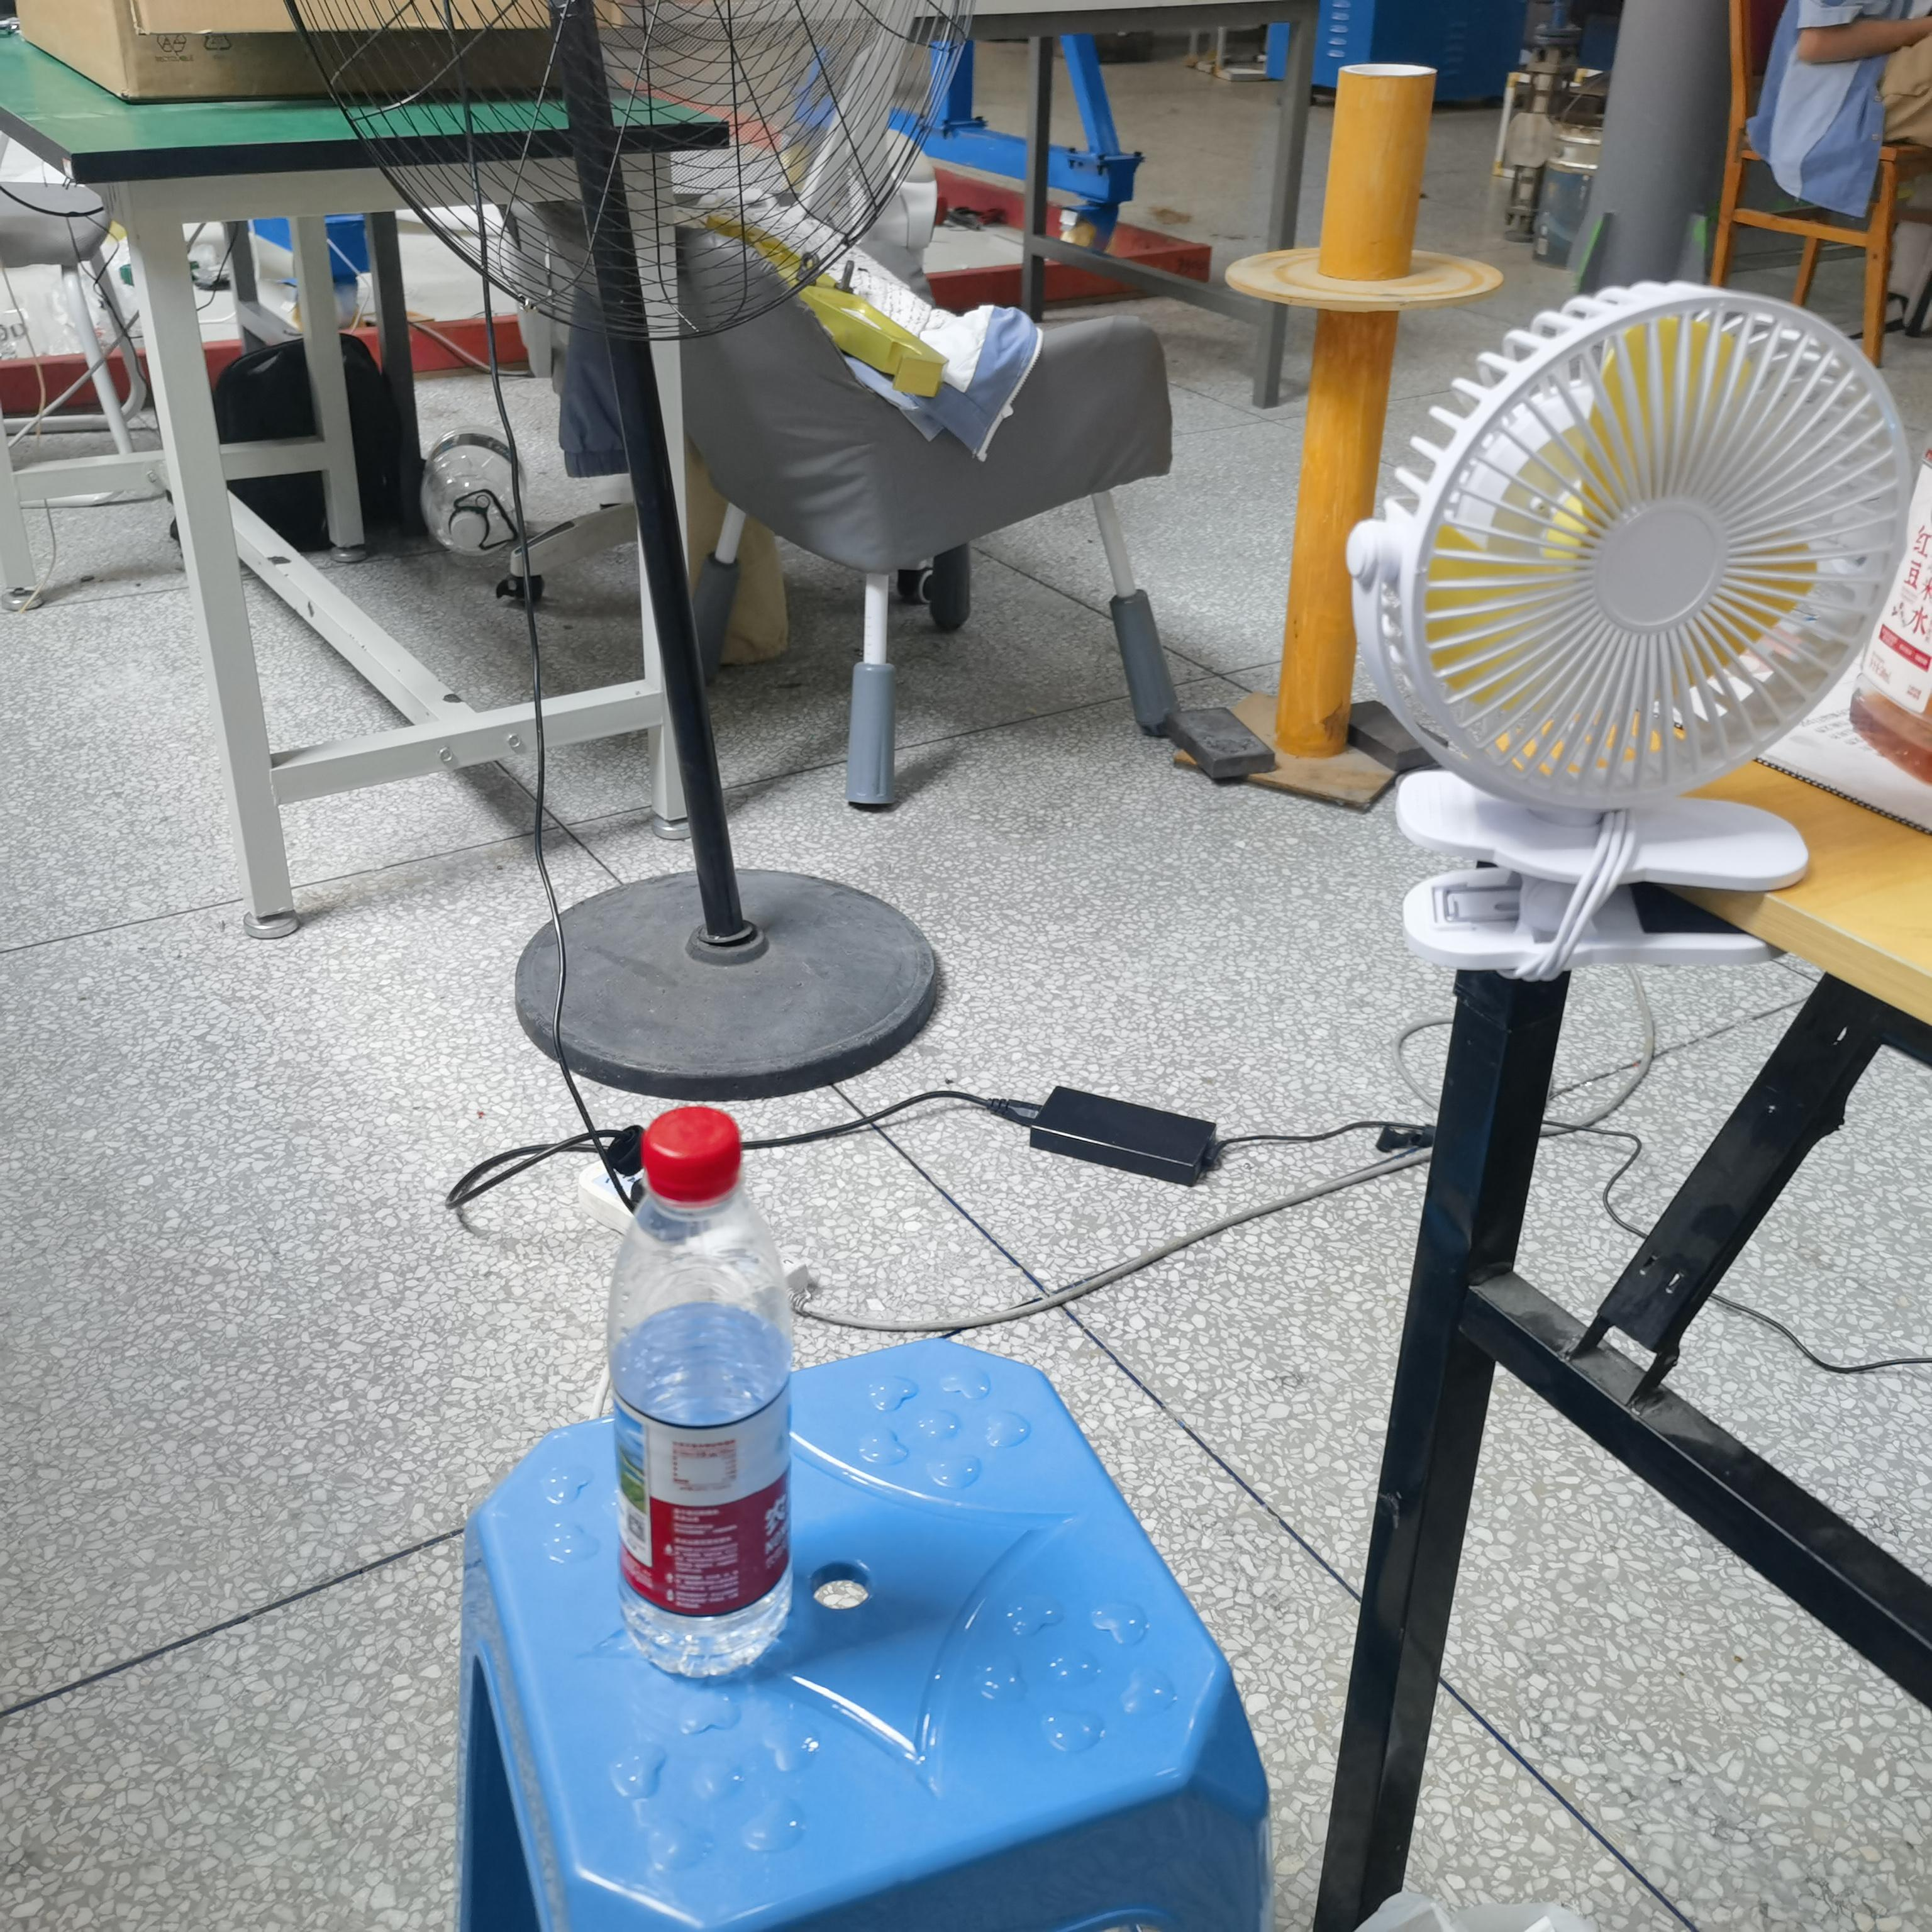bottle: (603, 1092, 800, 1690)
fan: (1334, 269, 1928, 994)
